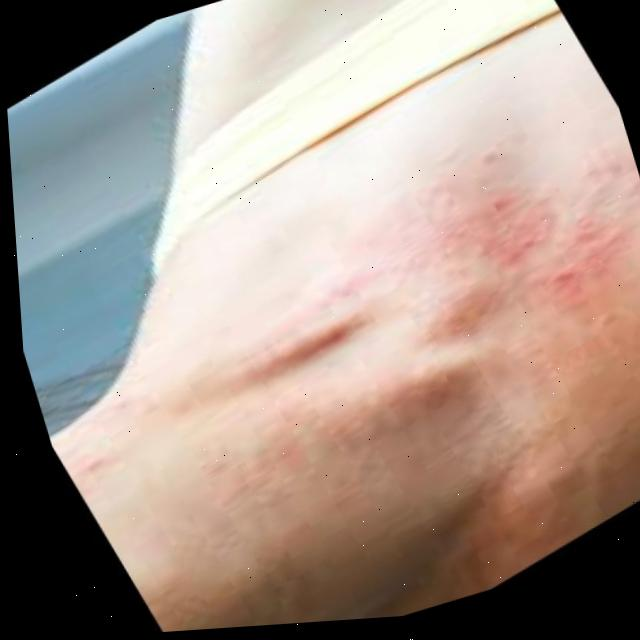Eczema: (424, 134, 636, 334)
